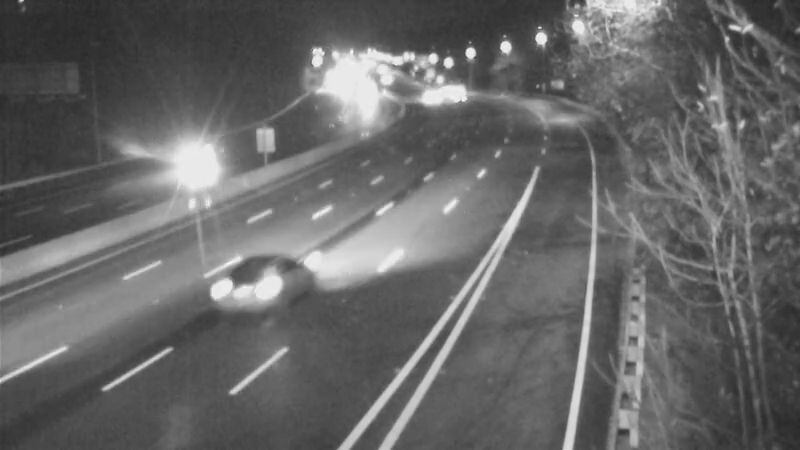vehicle: (210, 239, 290, 319), (145, 116, 225, 196), (433, 68, 483, 118), (398, 67, 448, 117), (421, 74, 471, 124)
